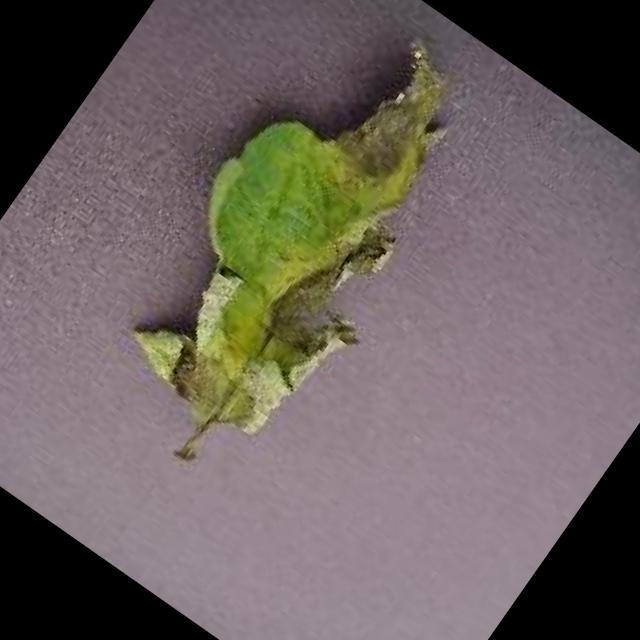Tomato late blight leaf: (93, 0, 519, 465)
